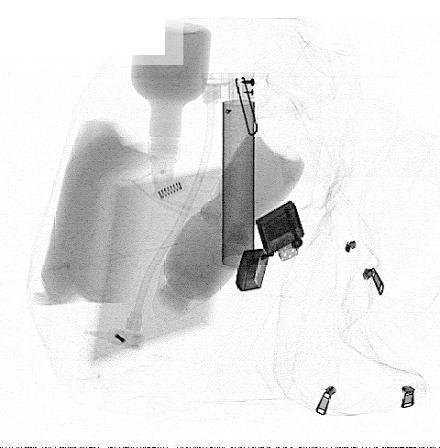Lighter: (235, 200, 305, 292)
